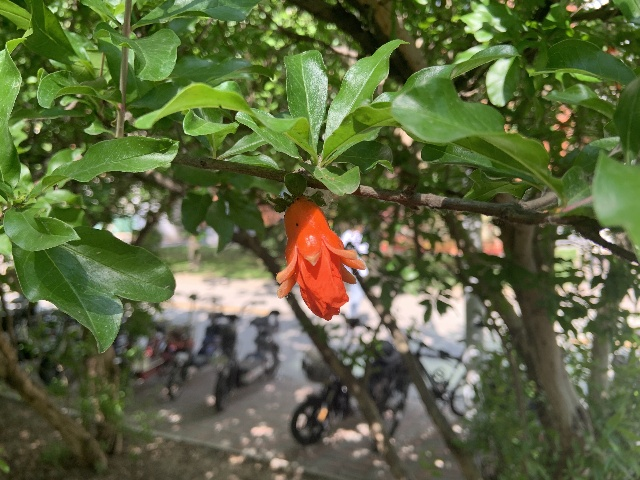flower: (275, 197, 365, 320)
